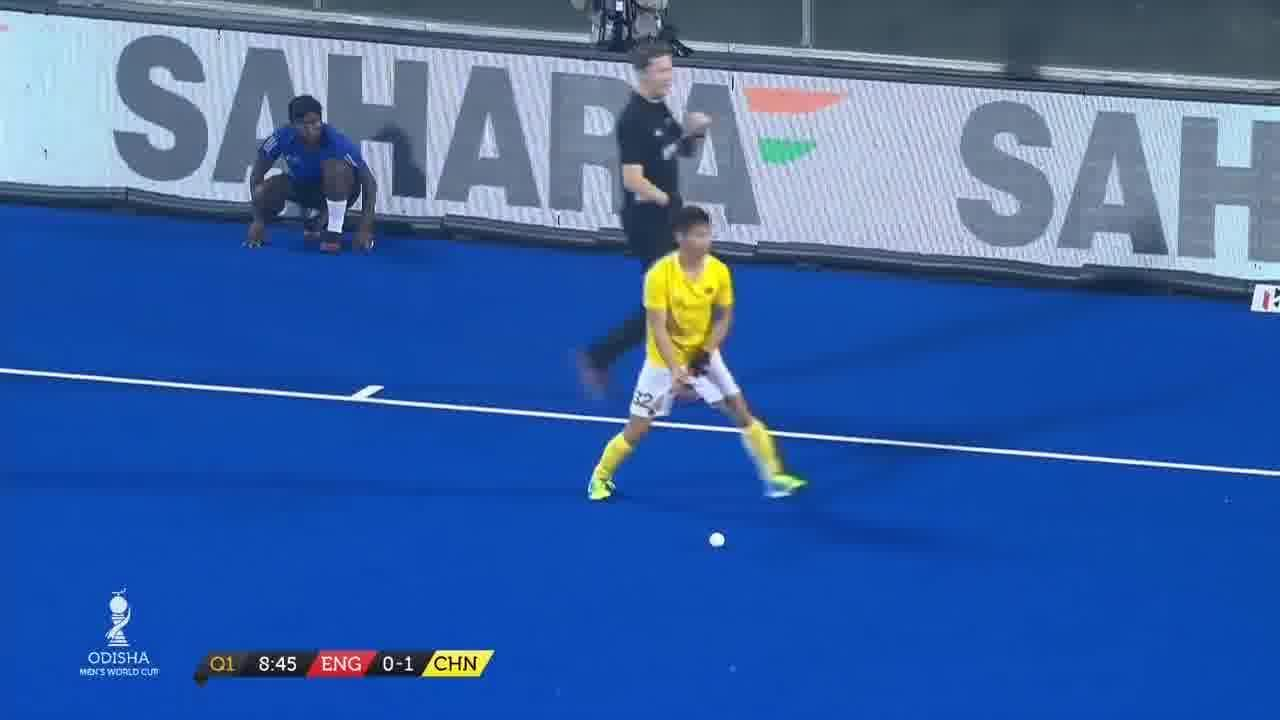ball: (698, 525, 733, 554)
